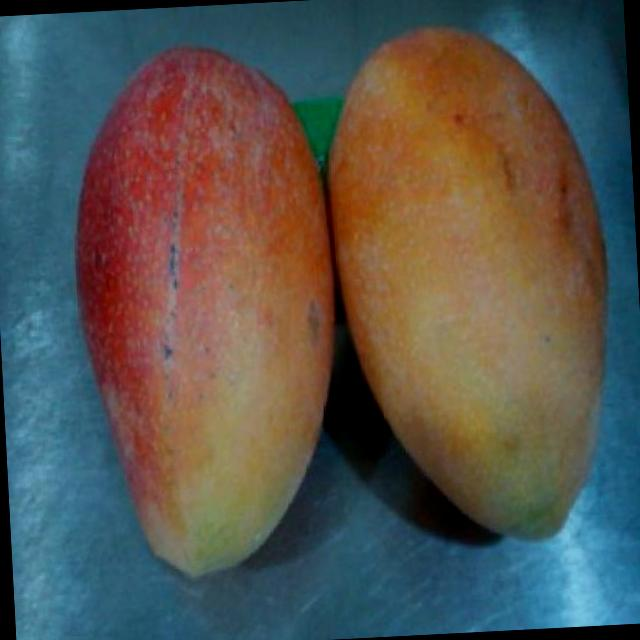Mango: (324, 16, 620, 555), (61, 41, 350, 576)
